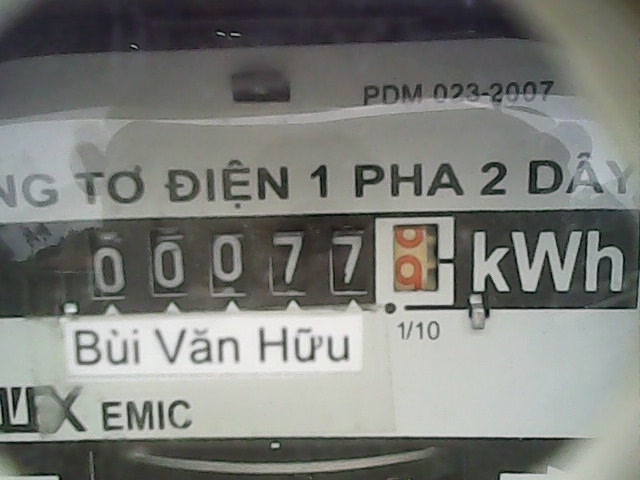phy_plate: (74, 213, 467, 314)
